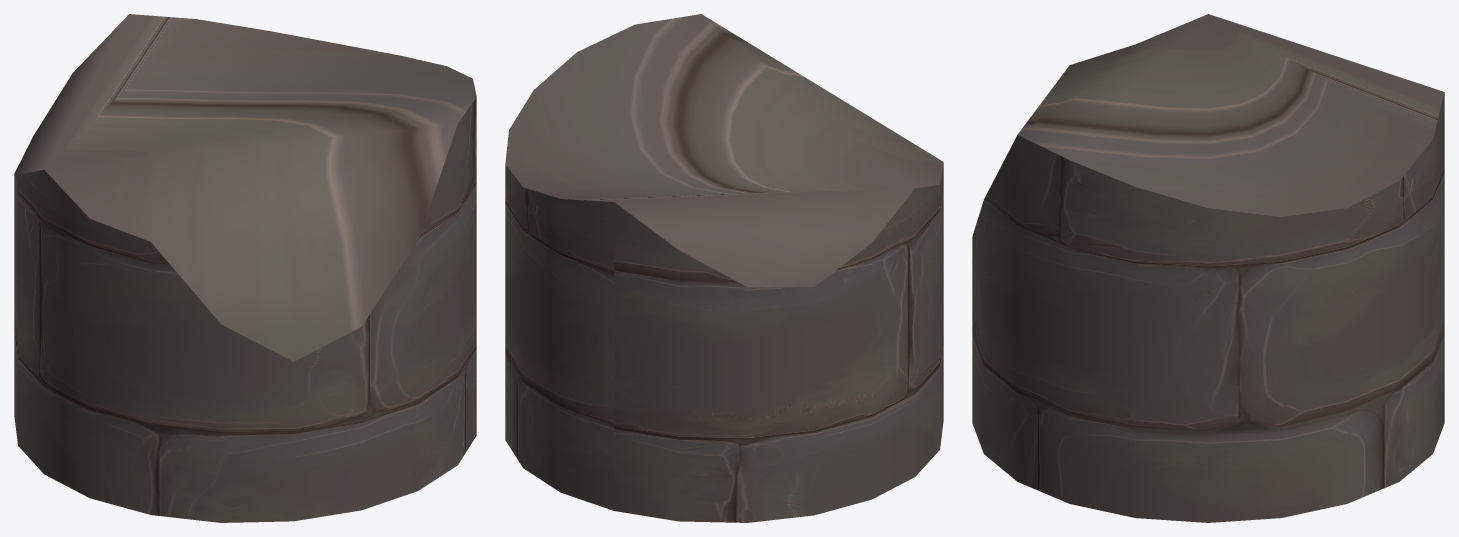
The model's file is PillarDamaged5_1.fbx.
3 renders of one model, left to right at view 1: azimuth 30°, elevation 25°; view 2: azimuth 150°, elevation 25°; view 3: azimuth 270°, elevation 25°, orthographic. The views are drawn at different scales.
Visible parts, largest first — view 1: polySurface206; view 2: polySurface206; view 3: polySurface206.
Boxes of the visible parts, bbox=[...] form: polySurface206: bbox=[14, 14, 476, 522]; polySurface206: bbox=[505, 14, 943, 522]; polySurface206: bbox=[972, 14, 1444, 522].
Bounding box in the file's own units: 22.73 × 18.43 × 22.73.
